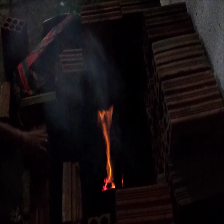fire_h: (98, 106, 116, 192)
fire_l: (120, 178, 123, 184)
